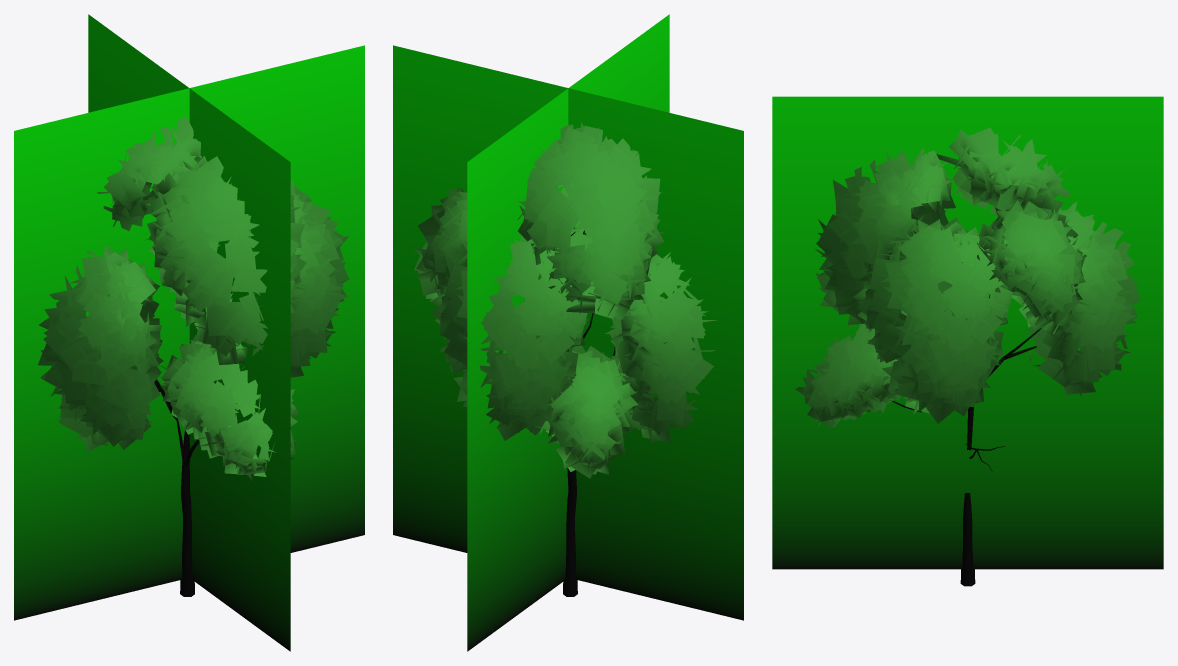
The model's file is IL3DN_Tree_Birch_02.FBX.
3 views of the same model, side by side, from view 1: azimuth 30°, elevation 25°; view 2: azimuth 150°, elevation 25°; view 3: azimuth 270°, elevation 25° (orthographic). The views are drawn at different scales.
Parts seen in each view (by area): view 1: IL3DN_Tree_Birch_02_Card, IL3DN_Tree_Birch_02_Leaves_LOD0, IL3DN_Tree_Birch_02_Branch_LOD0; view 2: IL3DN_Tree_Birch_02_Card, IL3DN_Tree_Birch_02_Leaves_LOD0, IL3DN_Tree_Birch_02_Branch_LOD0; view 3: IL3DN_Tree_Birch_02_Card, IL3DN_Tree_Birch_02_Leaves_LOD0, IL3DN_Tree_Birch_02_Branch_LOD0.
Boxes of the visible parts, x1,y1,x2,y2 form: IL3DN_Tree_Birch_02_Card: (14,14,364,651); IL3DN_Tree_Birch_02_Leaves_LOD0: (38,116,349,480); IL3DN_Tree_Birch_02_Branch_LOD0: (154,279,234,596); IL3DN_Tree_Birch_02_Card: (393,14,743,651); IL3DN_Tree_Birch_02_Leaves_LOD0: (413,122,718,478); IL3DN_Tree_Birch_02_Branch_LOD0: (563,228,666,596); IL3DN_Tree_Birch_02_Card: (772,96,1163,569); IL3DN_Tree_Birch_02_Leaves_LOD0: (795,127,1140,427); IL3DN_Tree_Birch_02_Branch_LOD0: (865,294,1041,586).
Size of what is drawn, in the model's own units: 236 by 325 by 236.
